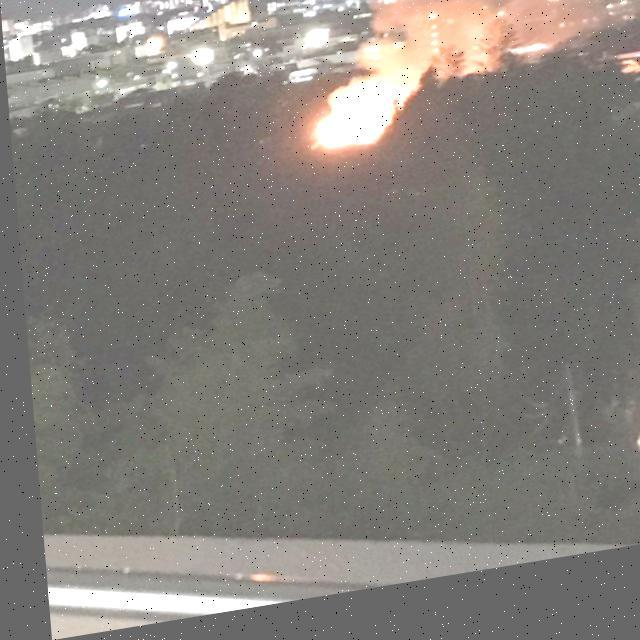Fire: (322, 86, 406, 162)
